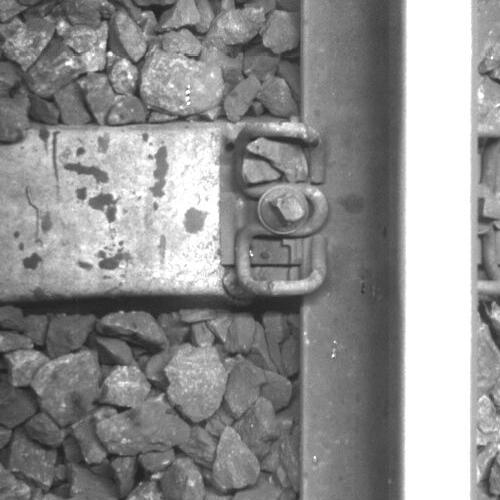rail: (402, 1, 477, 500)
tie_concr: (1, 128, 304, 293)
vossloh: (219, 122, 332, 296)
